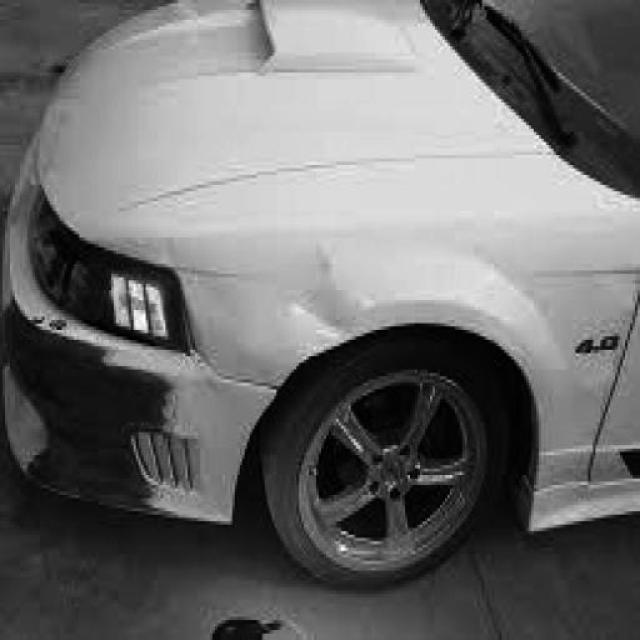car damage: (7, 305, 186, 518), (285, 236, 383, 343)
